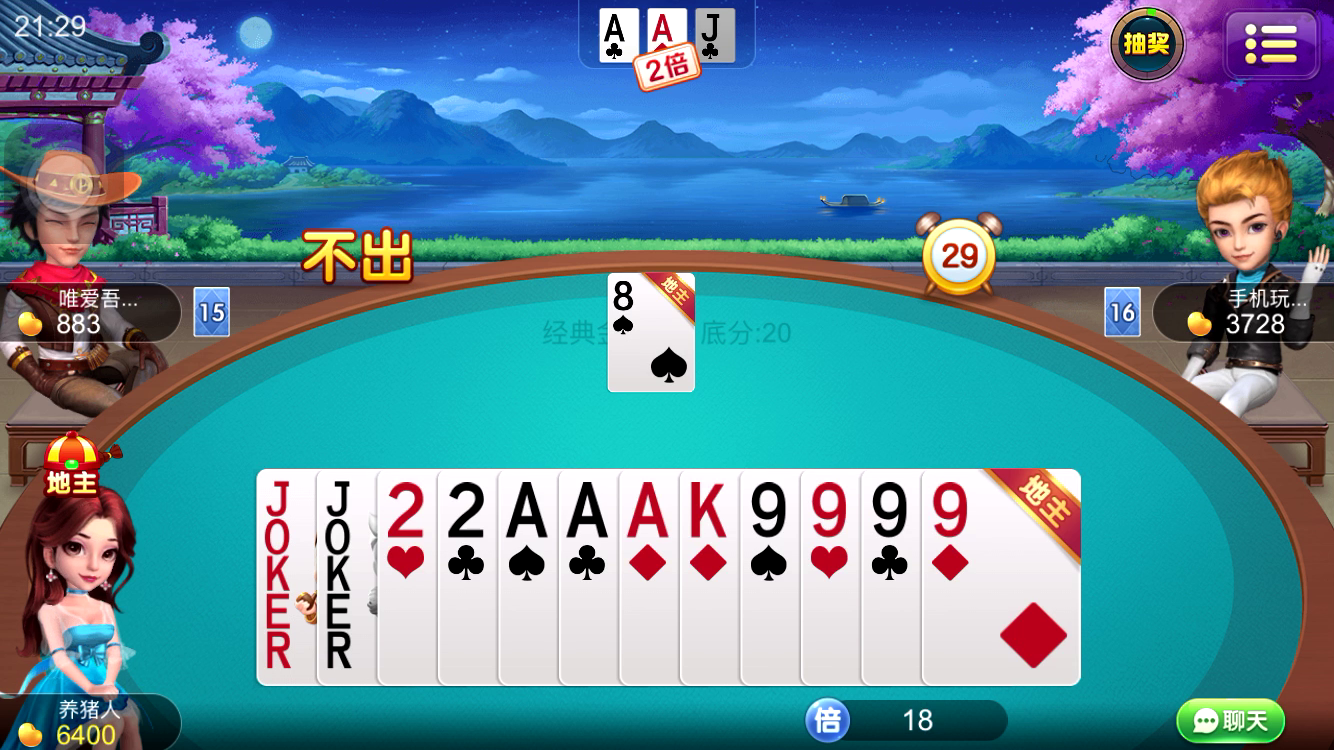A: (500, 474, 554, 544), (621, 474, 675, 543), (563, 474, 615, 543), (601, 9, 632, 43), (646, 11, 675, 44)
J: (691, 12, 723, 42)
JOKER: (254, 473, 306, 601)
K: (682, 474, 734, 543)
eight: (608, 276, 643, 316)
joker: (318, 476, 361, 602)
nine: (925, 476, 982, 544), (863, 475, 917, 545), (742, 474, 795, 544), (803, 476, 856, 543)
two: (441, 476, 493, 544), (380, 476, 433, 542)
